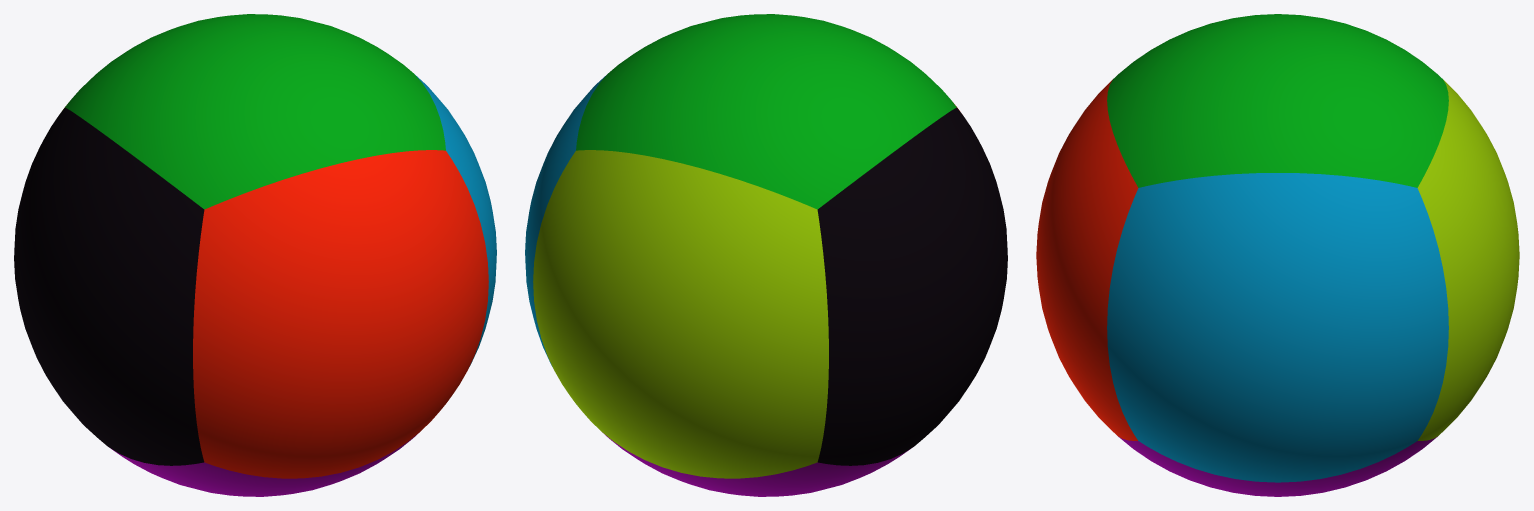
The model's file is Sphere_Uv_6Side.fbx.
The picture shows the model from 3 angles, left to right: view 1: azimuth 30°, elevation 25°; view 2: azimuth 150°, elevation 25°; view 3: azimuth 270°, elevation 25°; orthographic projection.
Visible parts, largest first — view 1: Sphere_UV_6Side; view 2: Sphere_UV_6Side; view 3: Sphere_UV_6Side.
Boxes of the visible parts, left/top/right/bottom form: Sphere_UV_6Side: left=14, top=14, right=496, bottom=496; Sphere_UV_6Side: left=525, top=14, right=1007, bottom=496; Sphere_UV_6Side: left=1036, top=14, right=1519, bottom=496.
Bounding box in the file's own units: 1 × 1 × 1.
